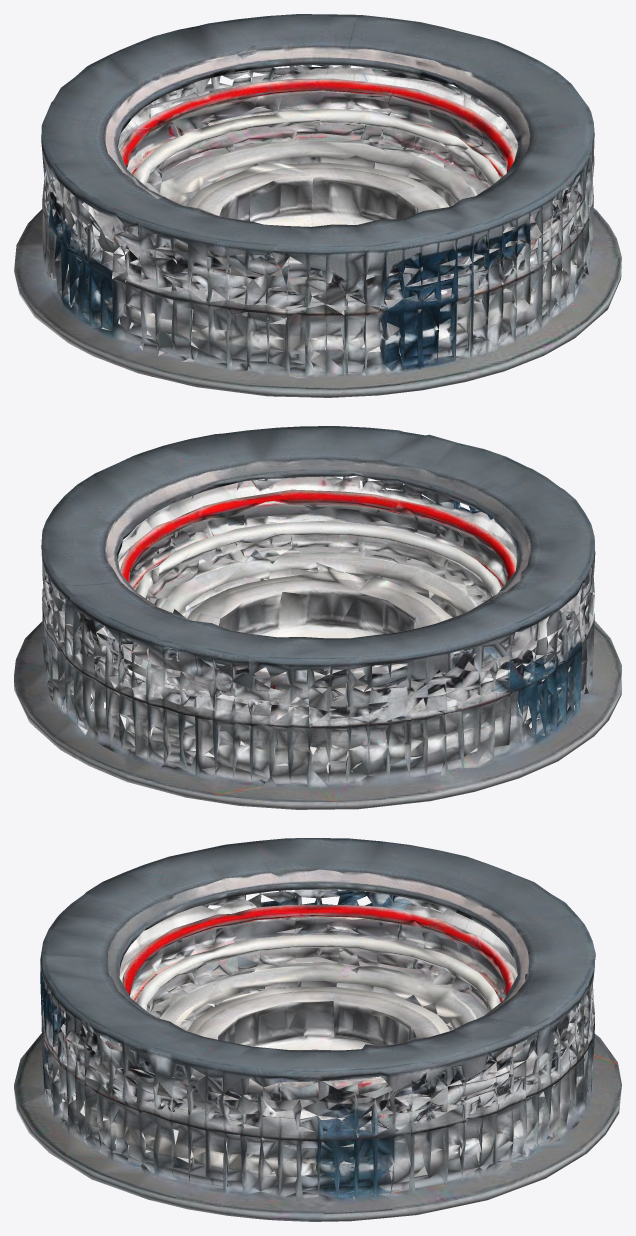
File: blacksmith.glb
3 views of the same model, one above another, from view 1: azimuth 30°, elevation 25°; view 2: azimuth 150°, elevation 25°; view 3: azimuth 270°, elevation 25° (orthographic).
Size of the model in its own units: 1.91 by 0.4831 by 1.91.
Materials: 1 (1 with a texture image).
